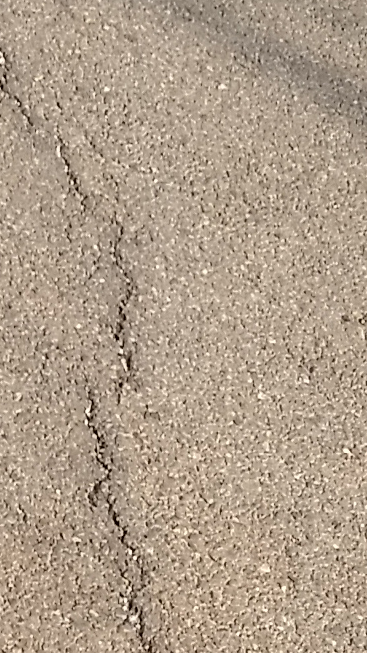A: (2, 38, 179, 653)
